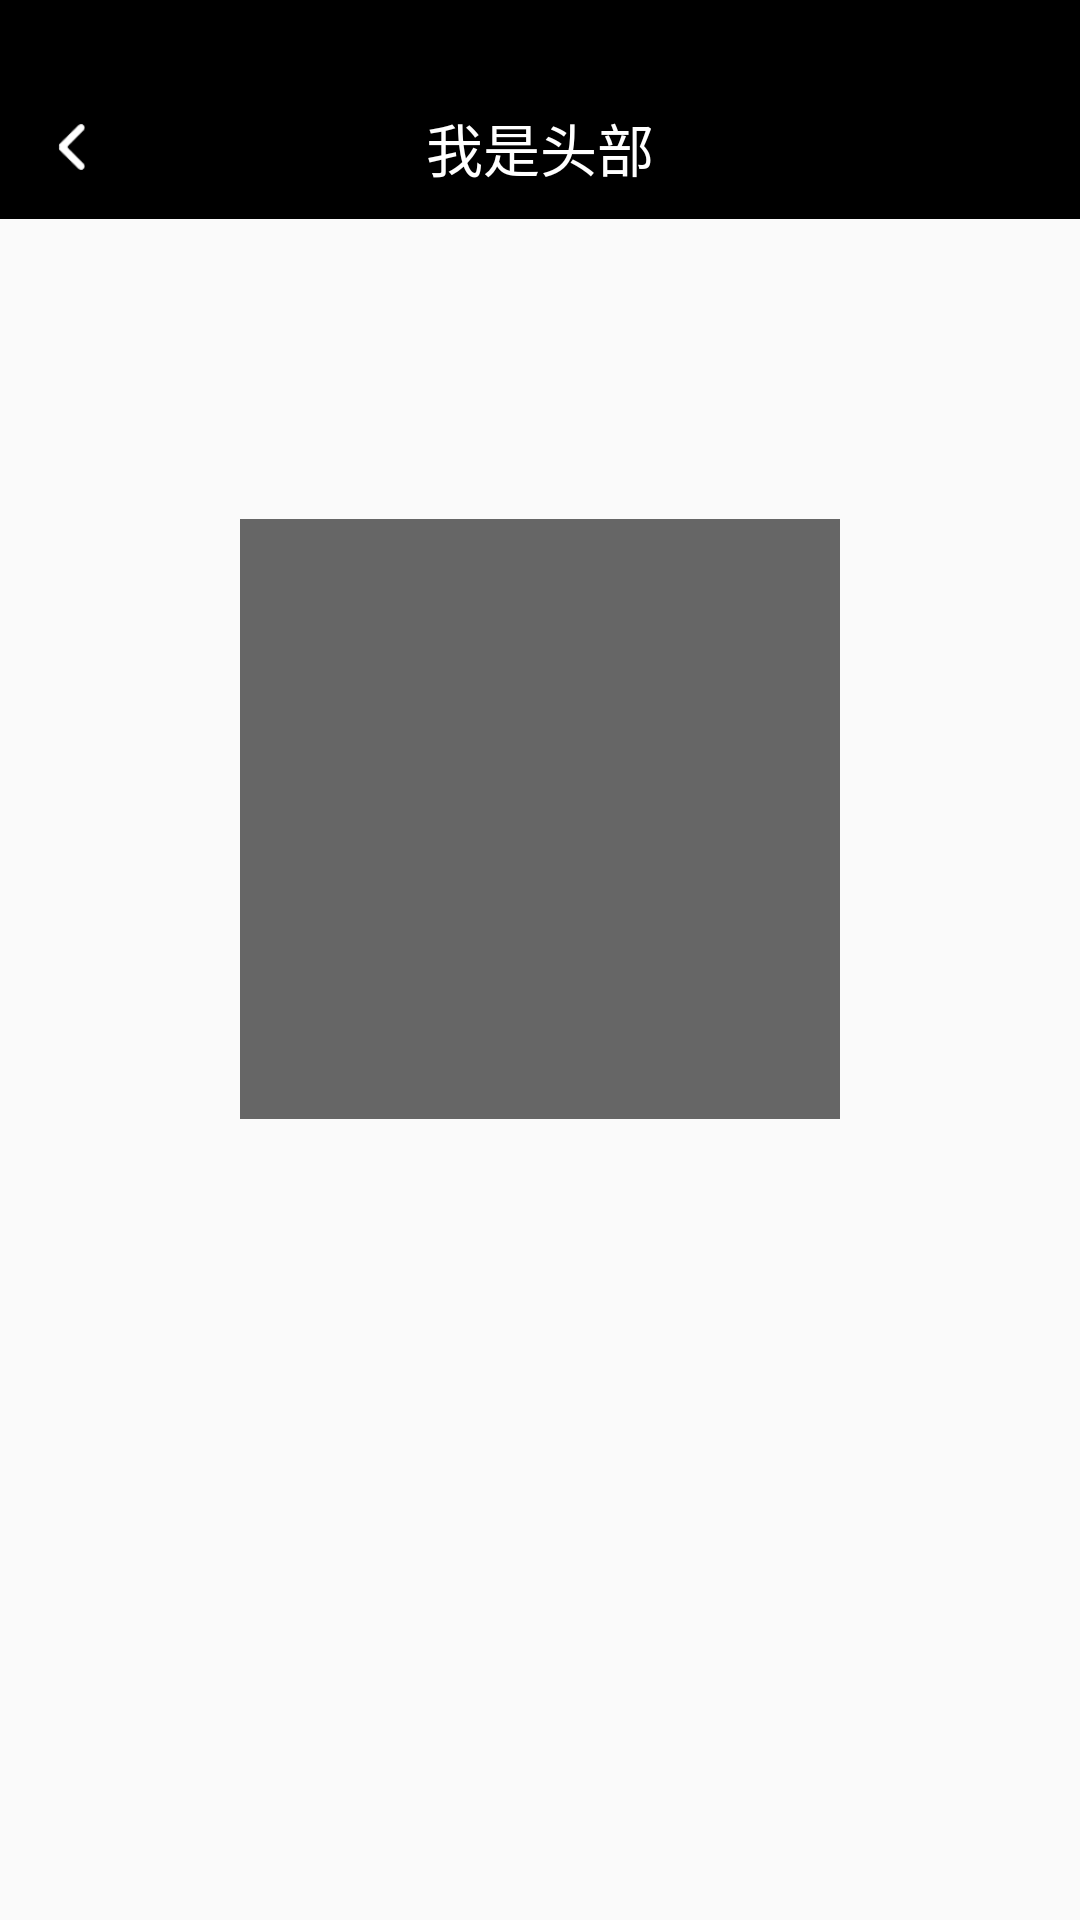

Icon bounding boxes for this 1080px×1920px phone screenshot, format (x1, y1, x2, y2):
title back: (59, 124, 85, 170)
